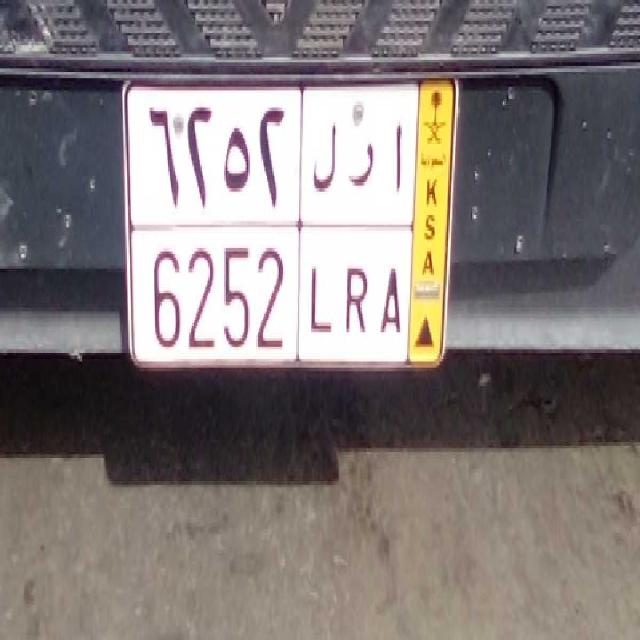license_plate: (141, 218, 407, 368)
